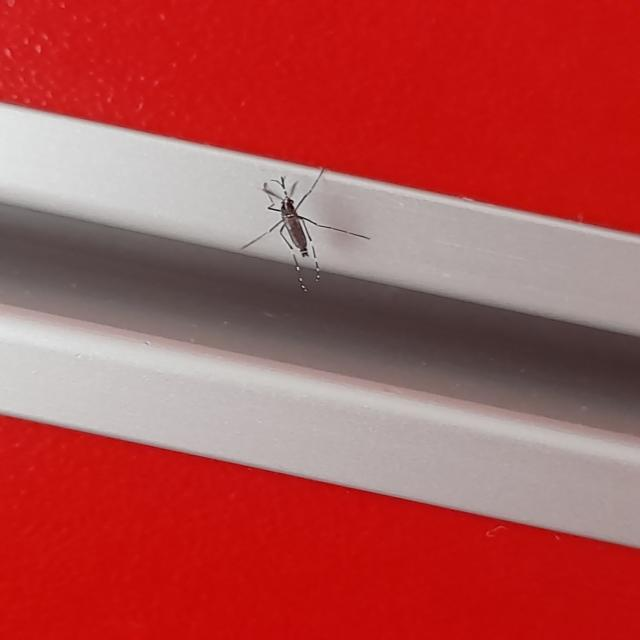albopictus: (231, 158, 373, 294)
